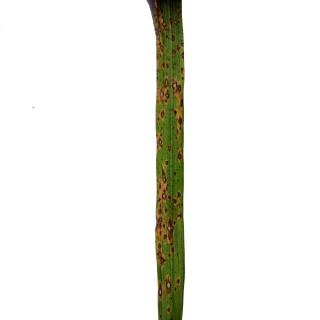Blast: (166, 217, 176, 243), (156, 248, 168, 266), (164, 276, 174, 294), (158, 89, 171, 102), (156, 213, 164, 229), (160, 167, 168, 182), (172, 81, 180, 95), (157, 284, 164, 299), (153, 0, 161, 12), (162, 78, 170, 89), (160, 192, 168, 202), (154, 25, 164, 33), (169, 18, 175, 29), (178, 114, 182, 130), (159, 110, 165, 119), (177, 152, 182, 162), (157, 139, 164, 146), (160, 16, 165, 25), (176, 192, 182, 199), (156, 242, 162, 249), (178, 10, 182, 20), (160, 44, 165, 52), (169, 4, 174, 12), (172, 110, 178, 116), (174, 19, 178, 27), (178, 212, 182, 220), (158, 230, 162, 238), (180, 98, 183, 108), (165, 204, 168, 214), (170, 247, 175, 253), (177, 277, 180, 287), (166, 308, 171, 314), (171, 35, 175, 42), (157, 34, 161, 41), (161, 62, 165, 69), (172, 198, 176, 205), (181, 66, 184, 75), (164, 161, 170, 165), (176, 45, 180, 51), (167, 62, 170, 70), (163, 26, 168, 30), (159, 204, 161, 214)
